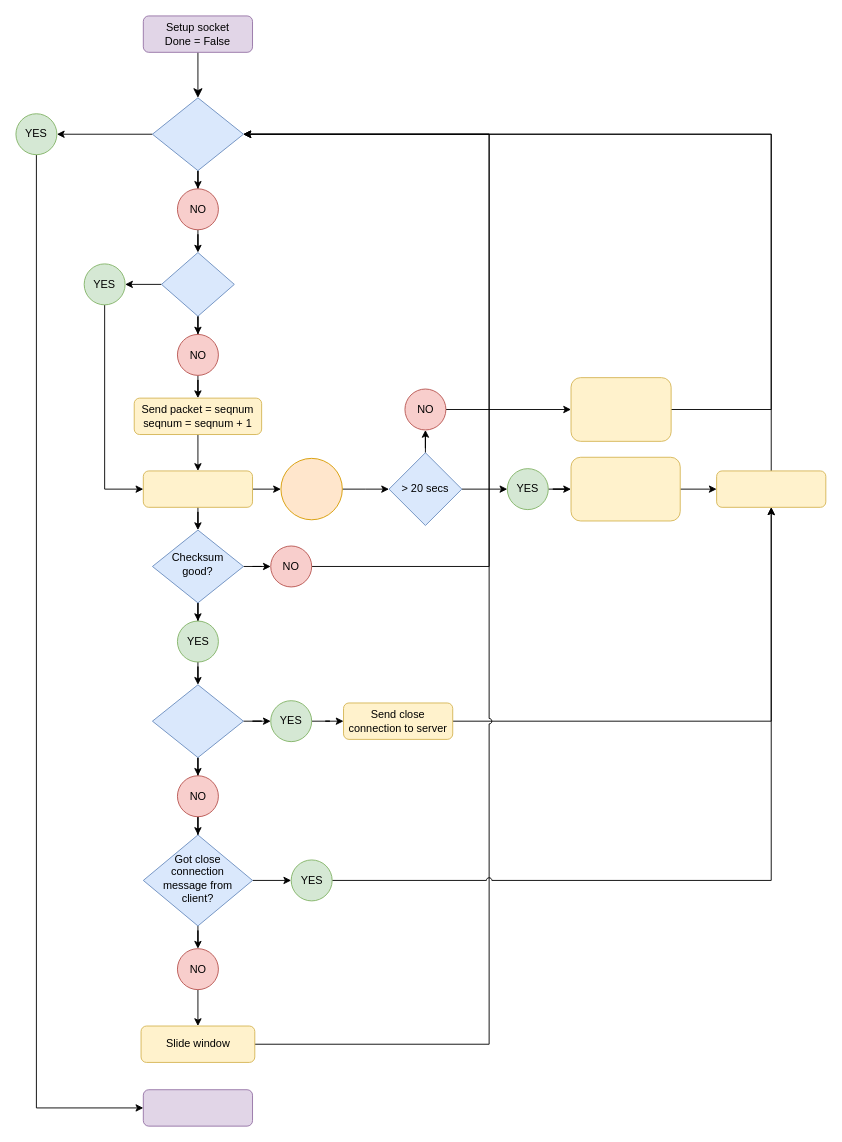
The diagram is 842 pixels wide and 1142 high, and some of its shapes have lost their labels. Here are the shapes that lost their labels. From the top down, the centre of each, then its label:
(x=197, y=134): Done?
(x=197, y=284): Sent all data?
(x=620, y=409): Resend all packets in window
(x=197, y=488): Get packet
(x=311, y=488): TIMEOUT
(x=625, y=488): Tell server to close connection
(x=771, y=488): Done = True
(x=197, y=721): Last packet sent?
(x=197, y=1107): Close connection
